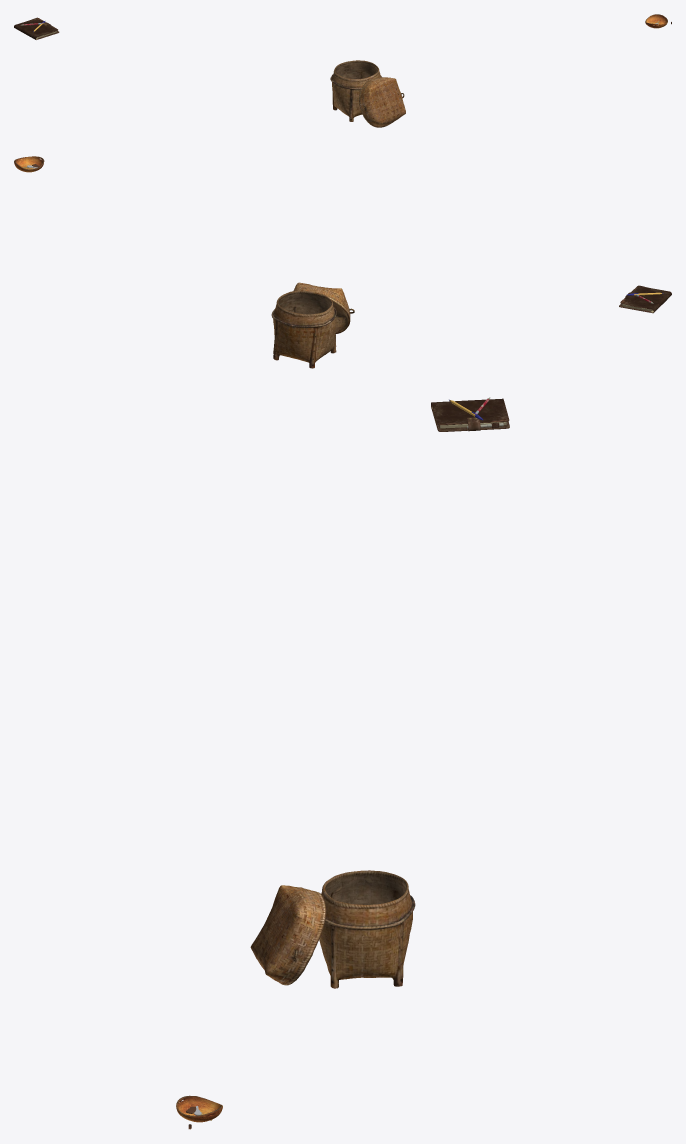
File: props_picked.glb
3 renders of one model, top to bottom at view 1: azimuth 30°, elevation 25°; view 2: azimuth 150°, elevation 25°; view 3: azimuth 270°, elevation 25°, orthographic. The views are drawn at different scales.
Visible parts, largest first — view 1: hamper, notebook, key_bowl; view 2: hamper, notebook, key_bowl; view 3: hamper, notebook.
Part boxes in pixels (x1,y1,x2,y2): hamper: (330,60,405,127); notebook: (14,17,59,39); key_bowl: (645,14,667,28); hamper: (271,282,354,368); notebook: (619,285,671,313); key_bowl: (14,156,44,172); hamper: (250,870,415,988); notebook: (431,398,509,431).
Size of the model in its own units: 3.67 by 0.8441 by 0.9141.
Materials: 7 (4 with a texture image).
